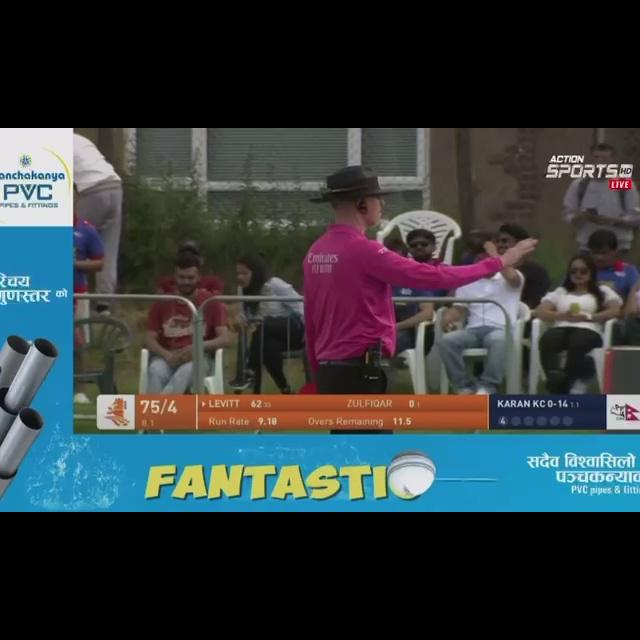umpire: (258, 143, 552, 385)
